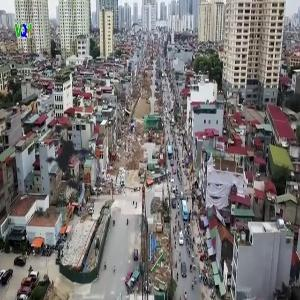drone: (1, 89, 136, 224)
